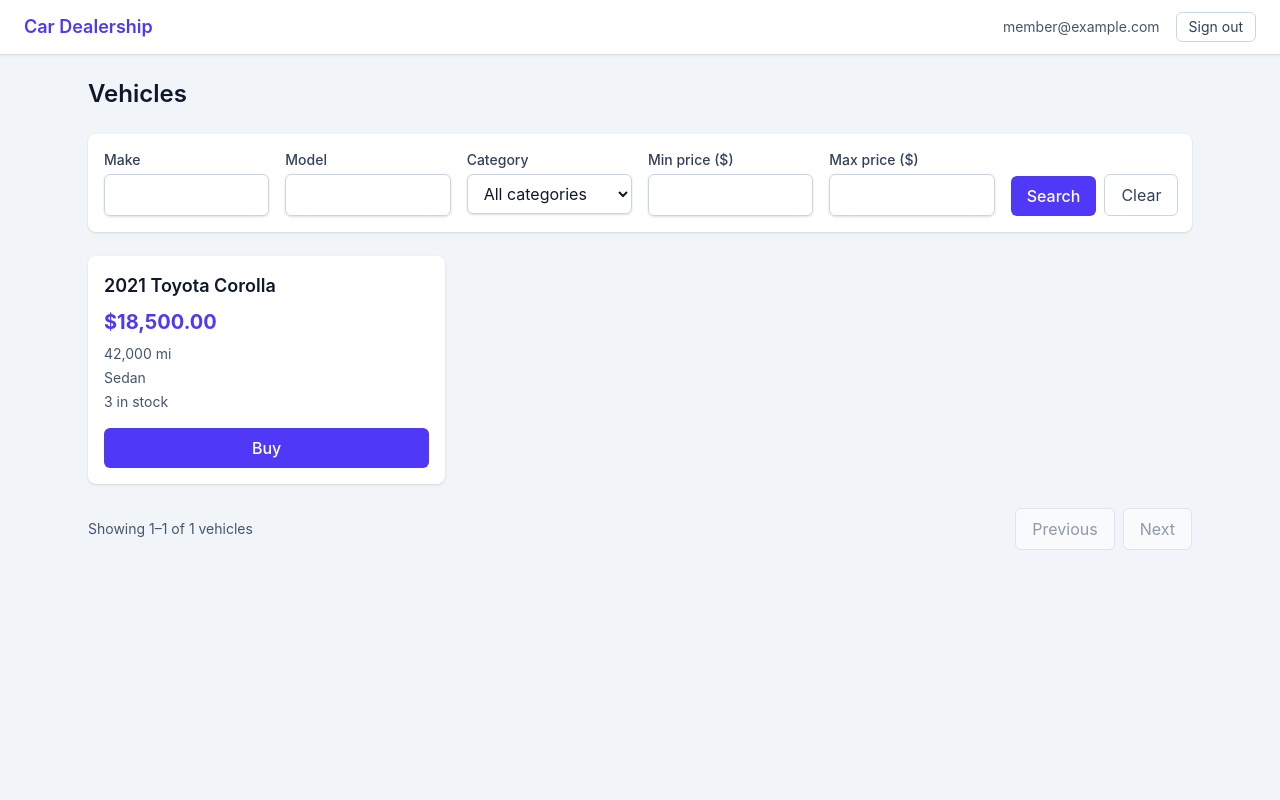
Test: DashboardPage search › clears every filter and reloads the unfiltered list
Type "Ford" into the field labelled "Make" at {"x": 187, "y": 195}, box [104,174,269,216]
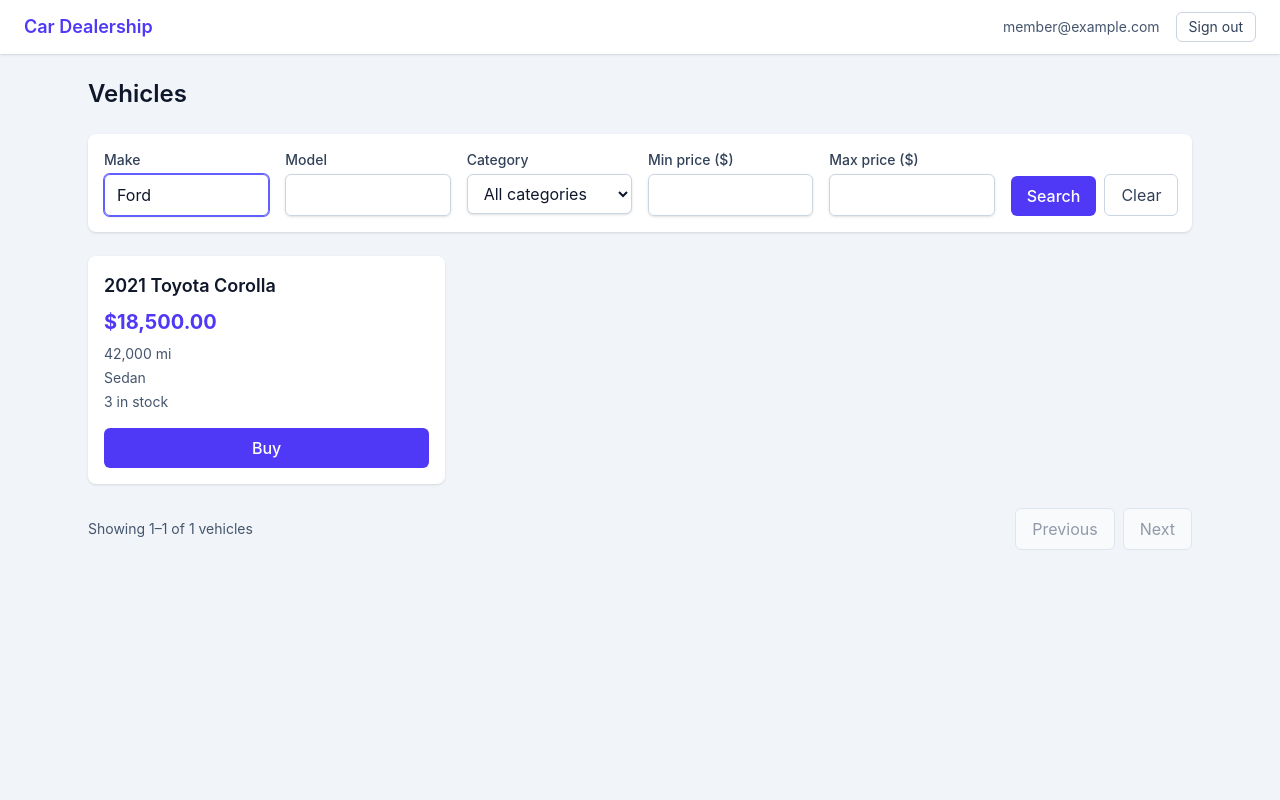
Click the button "Search" at {"x": 1054, "y": 196}, box [1011,176,1096,216]
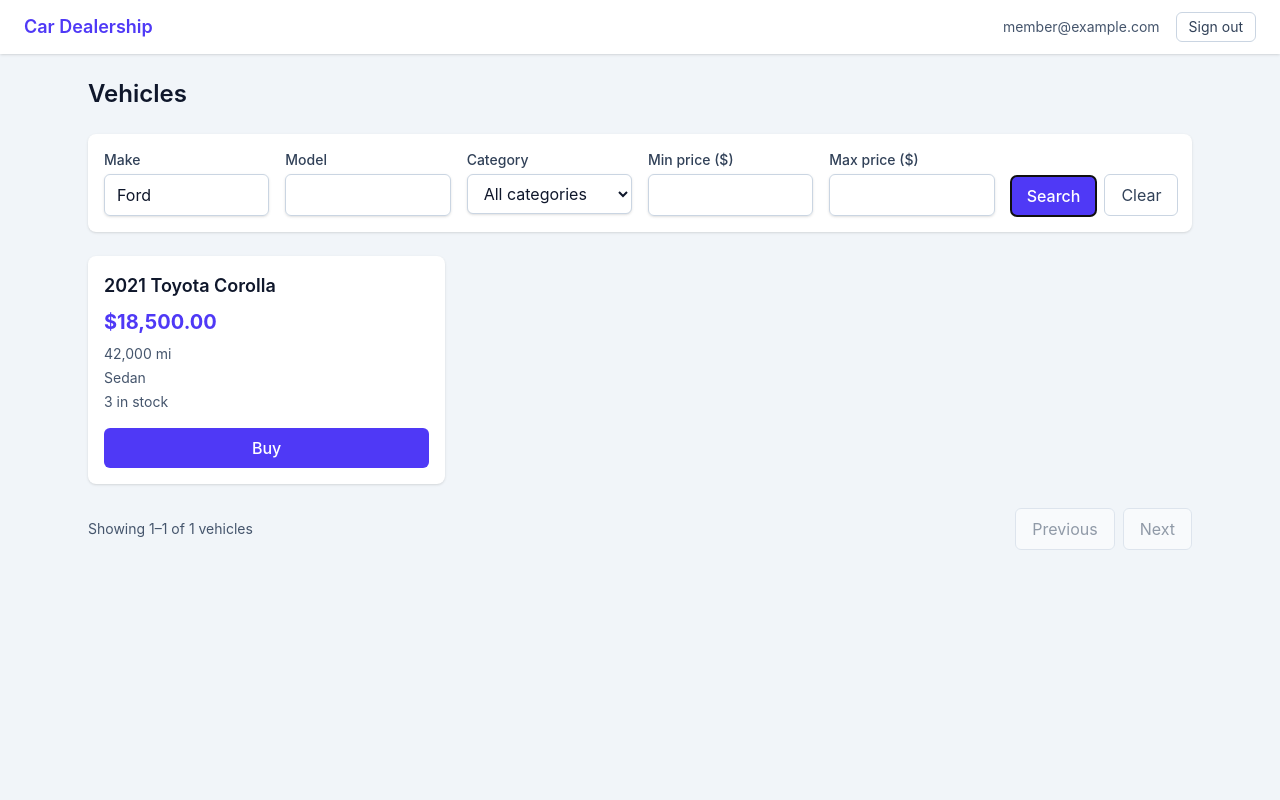
Click the button "Clear" at {"x": 1141, "y": 195}, box [1104,174,1178,216]
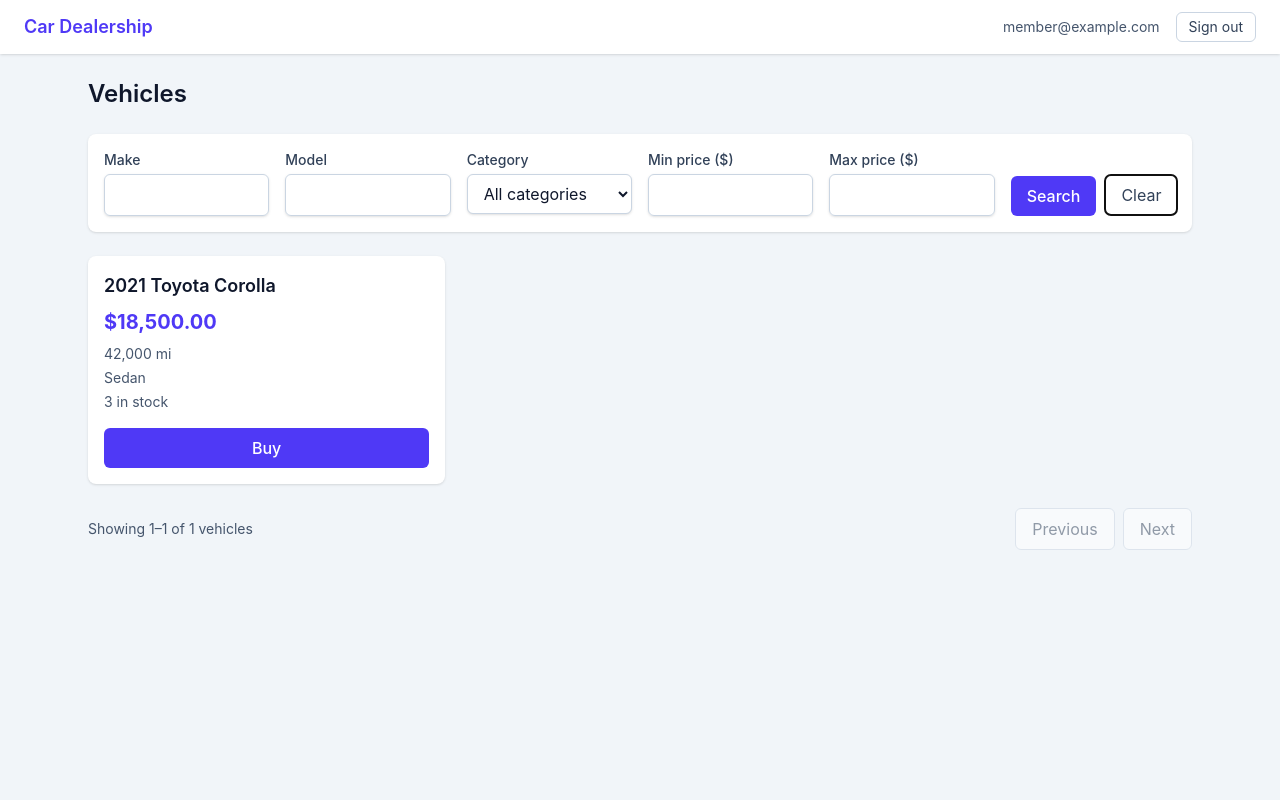
Now the field labelled "Make" is empty, box [104,174,269,216]
